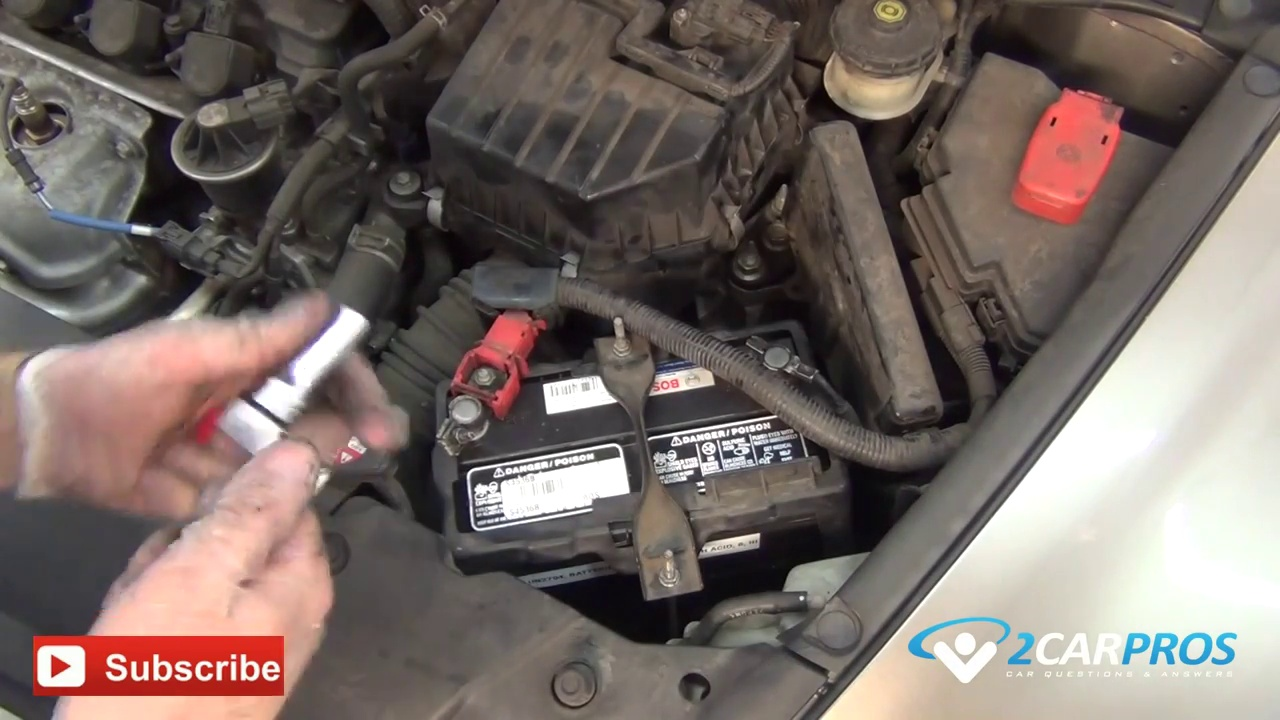battery: (424, 312, 862, 584)
neg_connected: (730, 315, 844, 404)
pos_connected: (433, 320, 560, 468)
